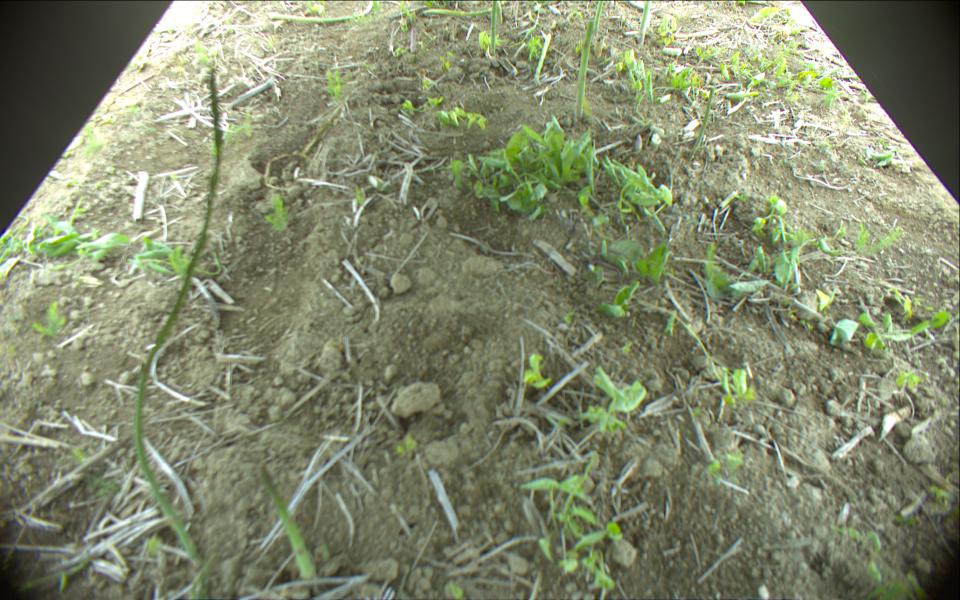aspa: (134, 69, 224, 590), (260, 465, 315, 582), (269, 1, 375, 21), (573, 22, 593, 120), (691, 87, 712, 156), (423, 2, 506, 14), (534, 34, 552, 84), (639, 1, 652, 43), (491, 1, 500, 56), (594, 1, 602, 34)
